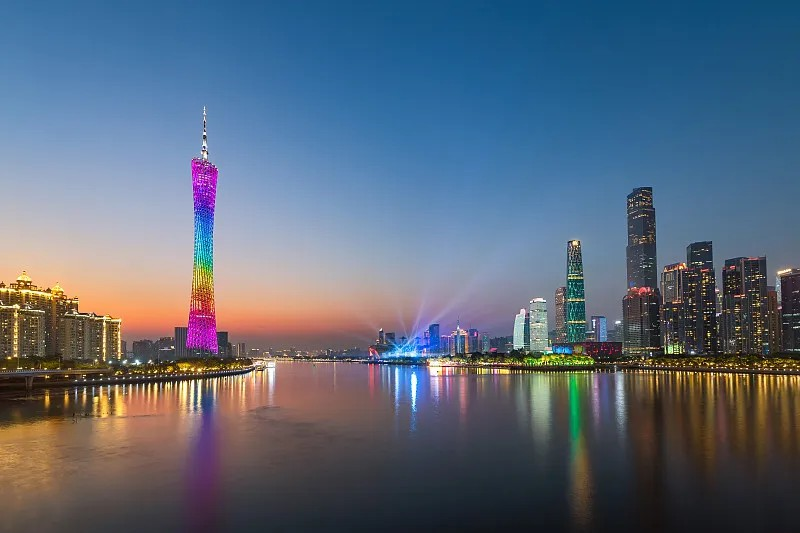Canton: (185, 107, 219, 357)
